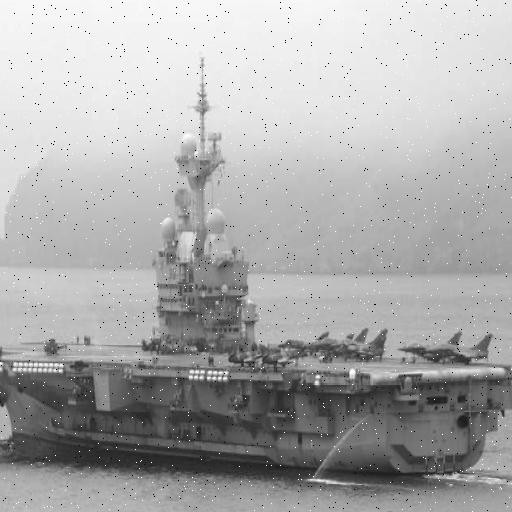Portanaves: (1, 44, 512, 480)
